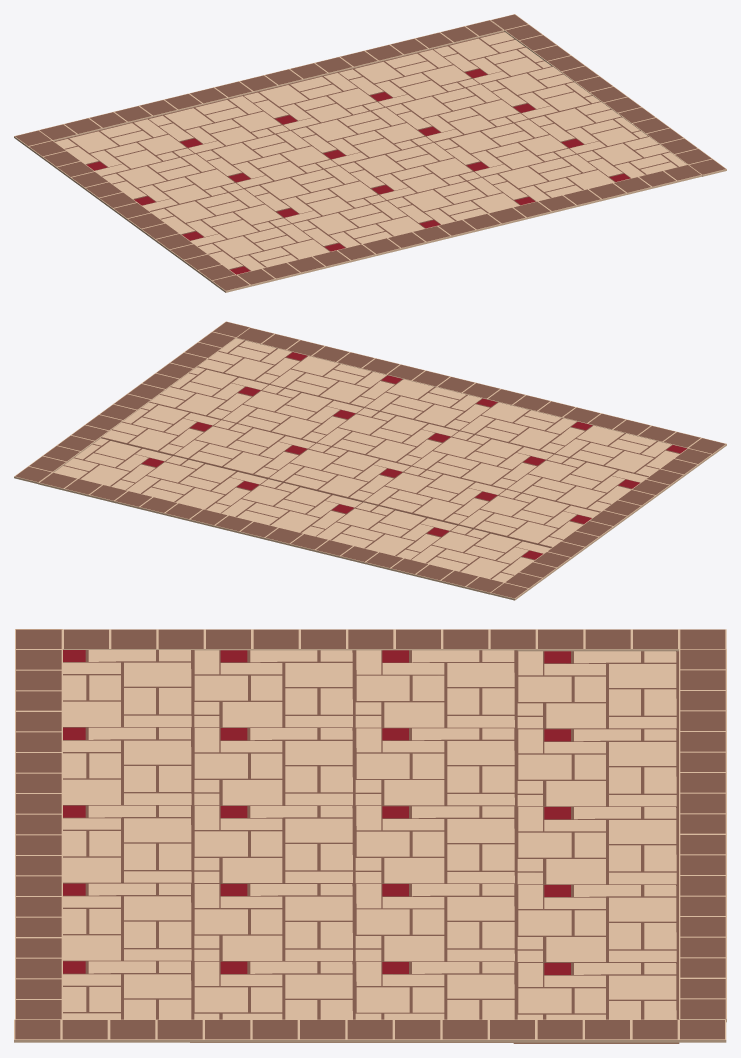
File: tiledFloor.glb
3 renders of one model, top to bottom at view 1: azimuth 30°, elevation 25°; view 2: azimuth 150°, elevation 25°; view 3: azimuth 270°, elevation 25°, orthographic. The views are drawn at different scales.
Visible parts, largest first — view 1: Cube.022, Cube.018, Cube.017, Cube.021, Cube.019; view 2: Cube.022, Cube.017, Cube.018, Cube.021, Cube.019; view 3: Cube.022, Cube.018, Cube.017, Cube.021, Cube.019.
Part boxes in pixels (box(x1,y1,x2,y2)): Cube.022: box(54, 31, 686, 274); Cube.018: box(211, 164, 701, 292); Cube.017: box(38, 20, 504, 141); Cube.021: box(490, 14, 726, 176); Cube.019: box(14, 130, 235, 281); Cube.022: box(54, 338, 686, 582); Cube.017: box(38, 472, 504, 594); Cube.018: box(236, 327, 726, 455); Cube.021: box(14, 321, 250, 484); Cube.019: box(490, 448, 712, 600); Cube.022: box(63, 650, 679, 1043); Cube.018: box(15, 629, 62, 1019); Cube.017: box(679, 649, 726, 1022); Cube.021: box(14, 1019, 726, 1042); Cube.019: box(63, 629, 726, 651).
Size of the model in its own units: 5.61 by 0.0323 by 4.11.
Materials: 2 (2 with a texture image).
